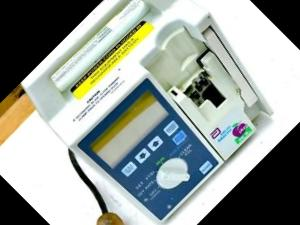plumxl1: (28, 8, 279, 212)
